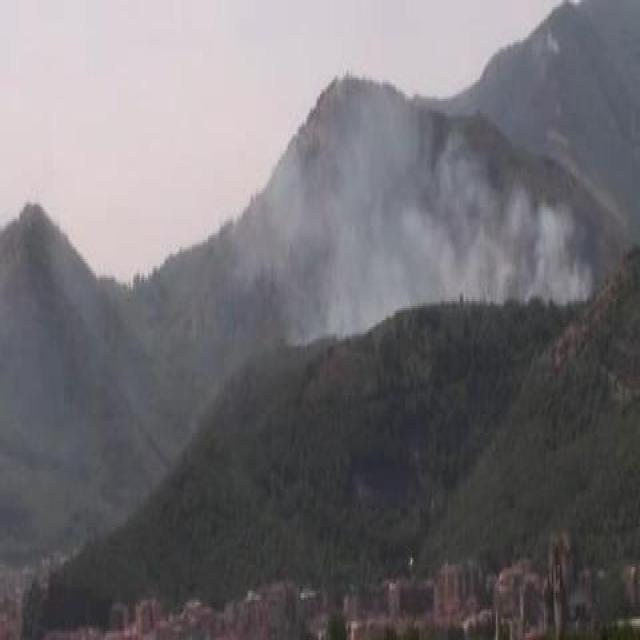Smoke: (326, 117, 582, 307)
